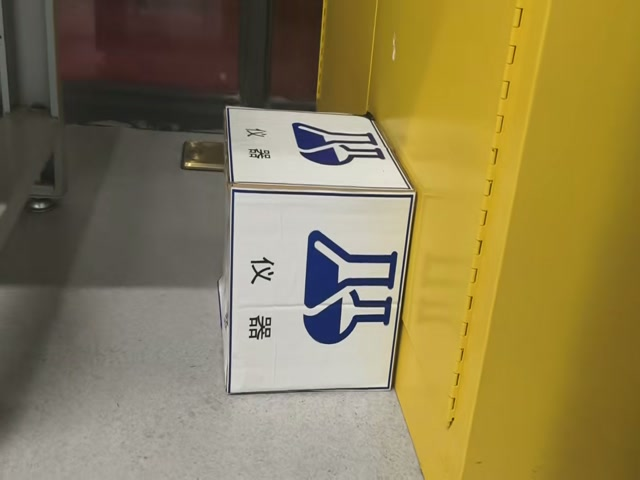Cube_ins: (221, 106, 410, 193)
